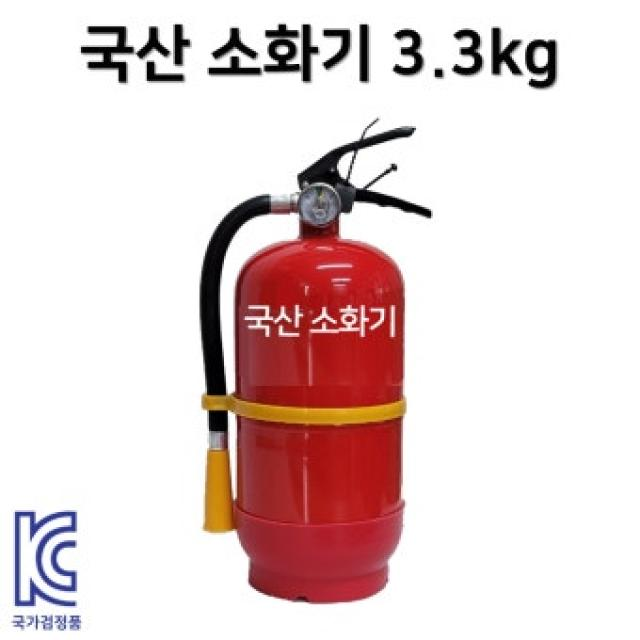pressure gauge: (299, 183, 341, 226)
